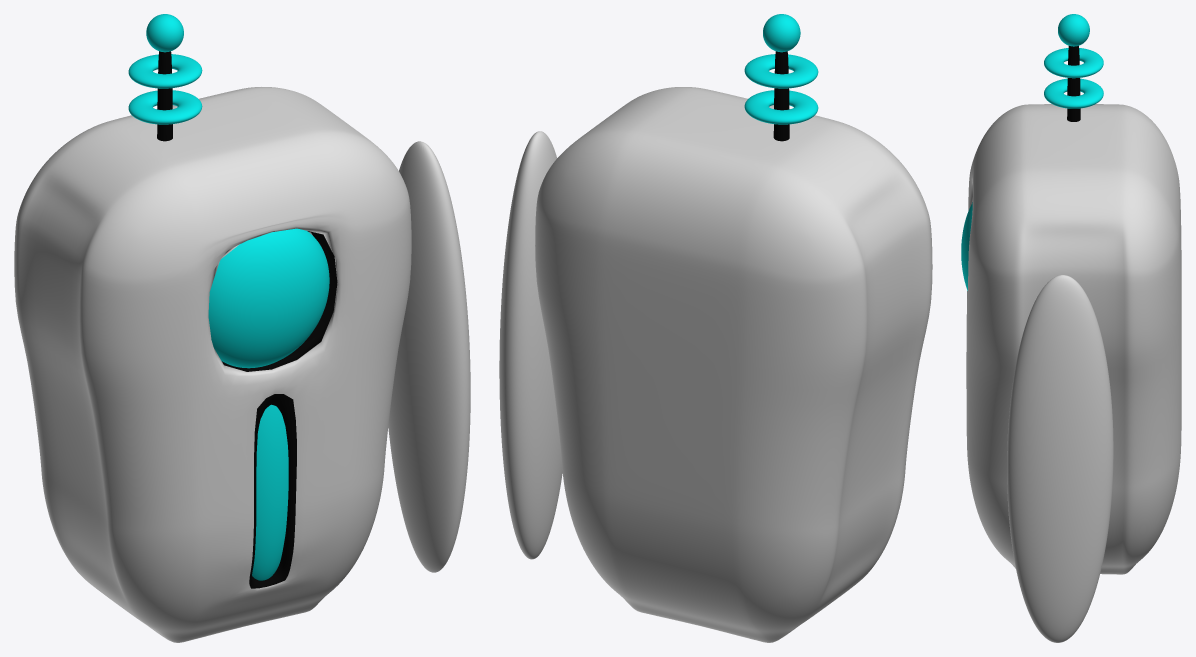
File: SM_KIWI 1.fbx
The picture shows the model from 3 angles, left to right: view 1: azimuth 30°, elevation 25°; view 2: azimuth 150°, elevation 25°; view 3: azimuth 270°, elevation 25°; orthographic projection. The views are drawn at different scales.
Visible parts, largest first — view 1: SM_Body, SM_RightArm, SM_Energie, SM_Antenne; view 2: SM_Body, SM_RightArm, SM_Antenne; view 3: SM_Body, SM_RightArm, SM_Antenne, SM_Energie.
Boxes of the visible parts, x1,y1,x2,y2 form: SM_Body: (14, 87, 411, 642); SM_RightArm: (388, 141, 470, 572); SM_Energie: (208, 228, 329, 580); SM_Antenne: (128, 14, 202, 141); SM_Body: (535, 87, 932, 642); SM_RightArm: (499, 131, 562, 559); SM_Antenne: (744, 14, 818, 141); SM_Body: (966, 104, 1181, 574); SM_RightArm: (1007, 275, 1113, 642); SM_Antenne: (1044, 14, 1103, 121); SM_Energie: (961, 202, 972, 290).
Bounding box in the file's own units: 135 × 200 × 76.67.
